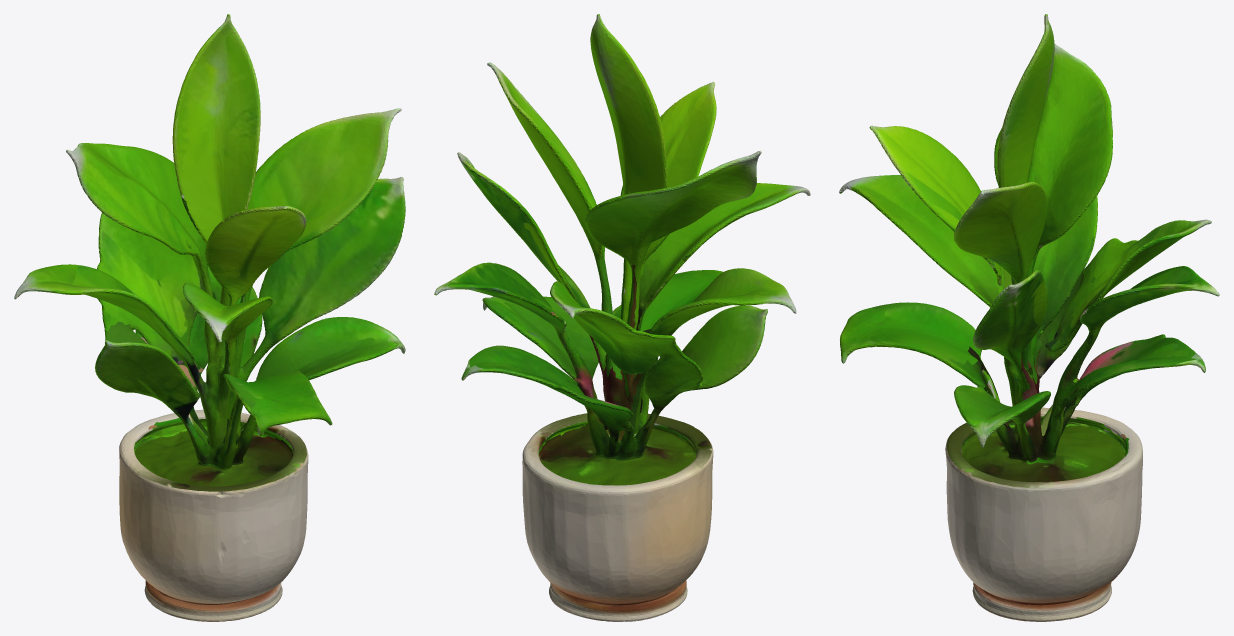
File: biomechanical-growth-planter-generated-2026-04-18T02-10-29-603Z.high.glb
3 renders of one model, left to right at view 1: azimuth 30°, elevation 25°; view 2: azimuth 150°, elevation 25°; view 3: azimuth 270°, elevation 25°, orthographic. The views are drawn at different scales.
Visible parts, largest first — view 1: temp_mesh.ply; view 2: temp_mesh.ply; view 3: temp_mesh.ply.
Boxes of the visible parts, x1,y1,x2,y2 form: temp_mesh.ply: (14,14,405,621); temp_mesh.ply: (434,14,810,621); temp_mesh.ply: (839,14,1219,621).
Bounding box in the file's own units: 1.3 × 1.97 × 1.16.
Materials: 1 (1 with a texture image).
